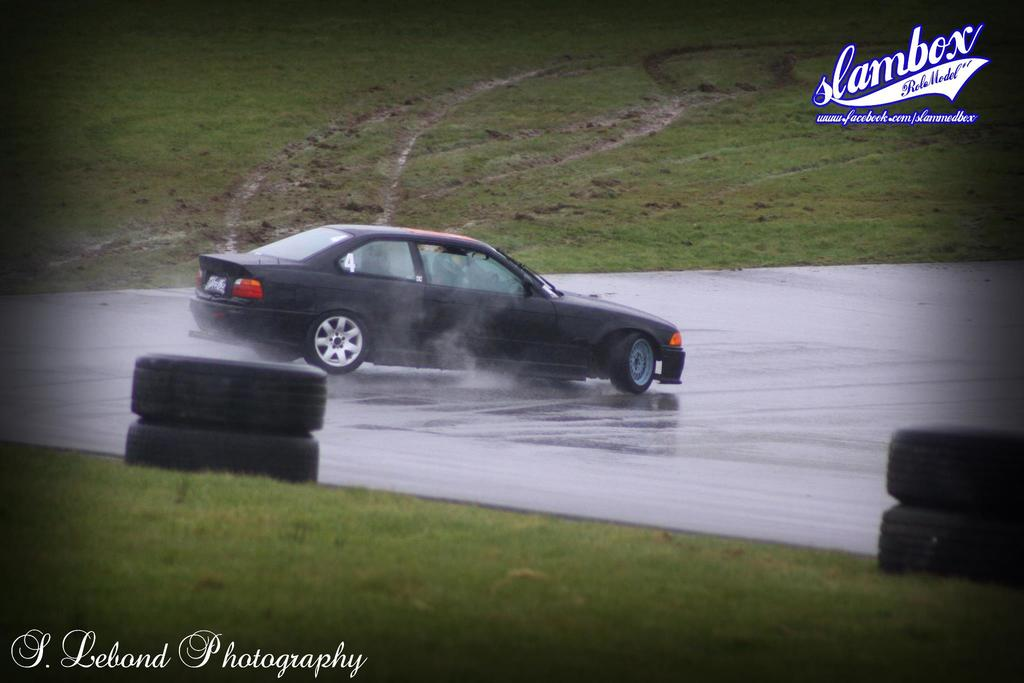Car: (189, 224, 684, 390)
